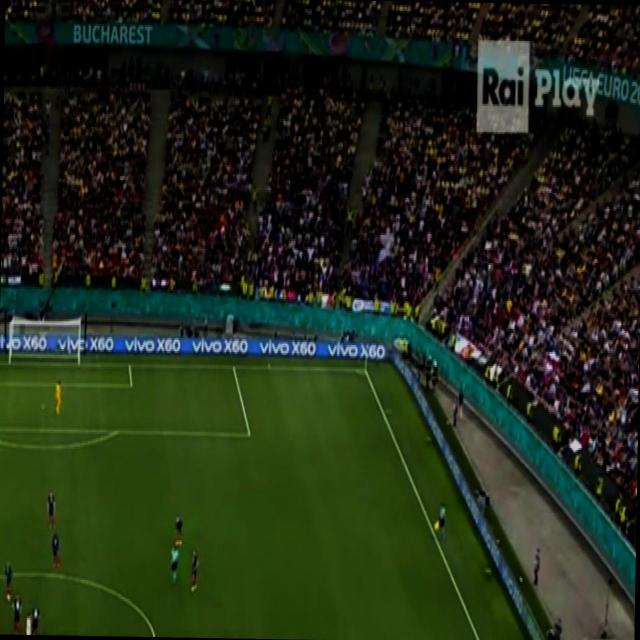ball: (518, 573, 524, 583), (444, 418, 450, 426)
player-white: (8, 589, 24, 635), (188, 546, 200, 595), (2, 559, 15, 603), (168, 542, 180, 587), (45, 488, 57, 532), (172, 513, 185, 549), (50, 532, 62, 570), (438, 497, 447, 545), (31, 603, 44, 635), (54, 377, 62, 418), (24, 609, 34, 635)
